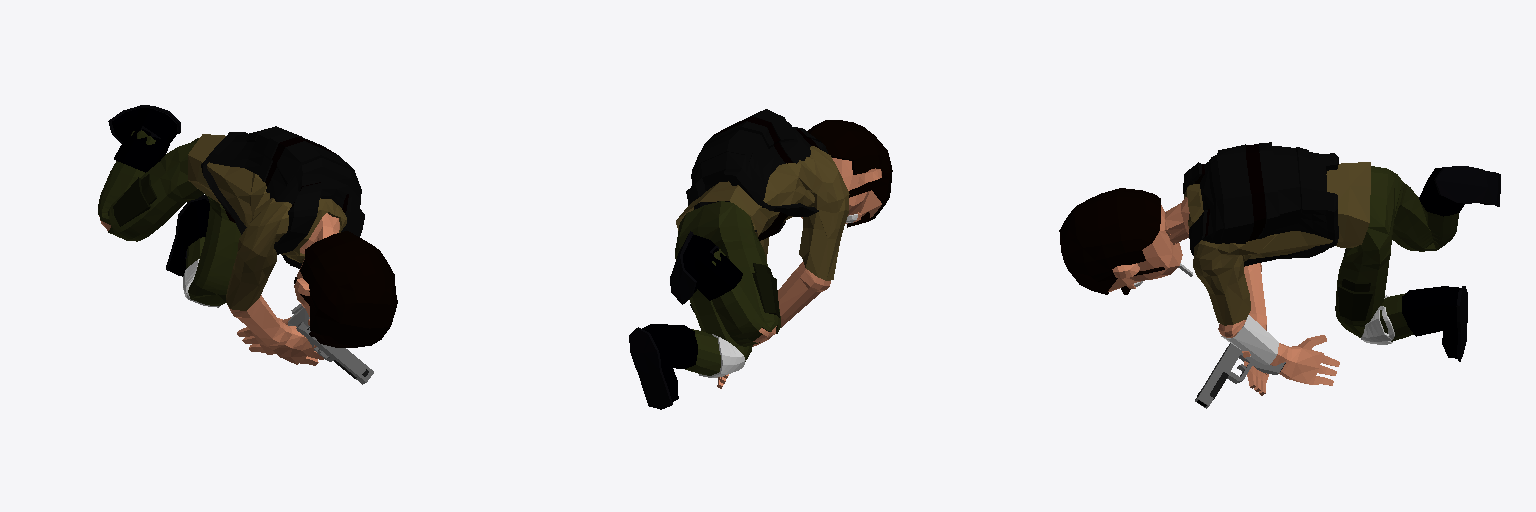
Rendered from frame_0019.obj.
3 renders of one model, left to right at view 1: azimuth 30°, elevation 25°; view 2: azimuth 150°, elevation 25°; view 3: azimuth 270°, elevation 25°, orthographic.
Visible parts, largest first — view 1: Body, Gun; view 2: Body; view 3: Body, Gun.
Part boxes in pixels (left/top/right/bottom): Body: left=98, top=105, right=397, bottom=365; Gun: left=296, top=322, right=373, bottom=384; Body: left=629, top=109, right=892, bottom=409; Body: left=1059, top=142, right=1500, bottom=395; Gun: left=1195, top=343, right=1285, bottom=408.
Bounding box in the file's own units: 1.41 × 2.03 × 3.4.